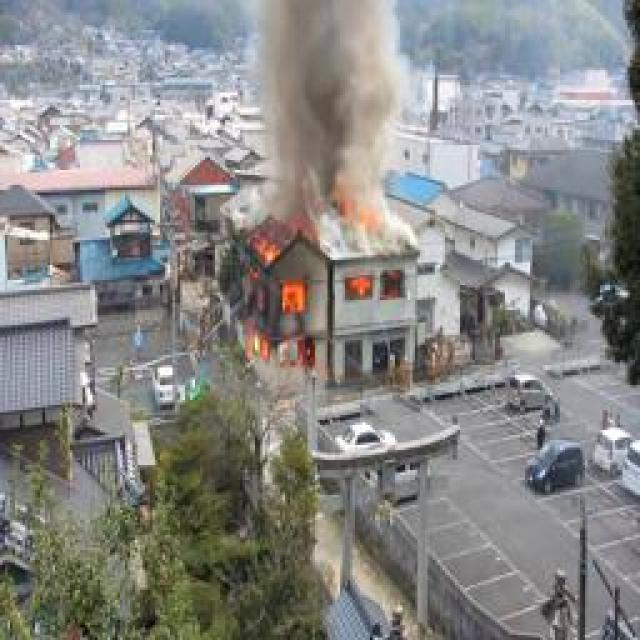Fire: (234, 244, 314, 375), (341, 272, 374, 305)
